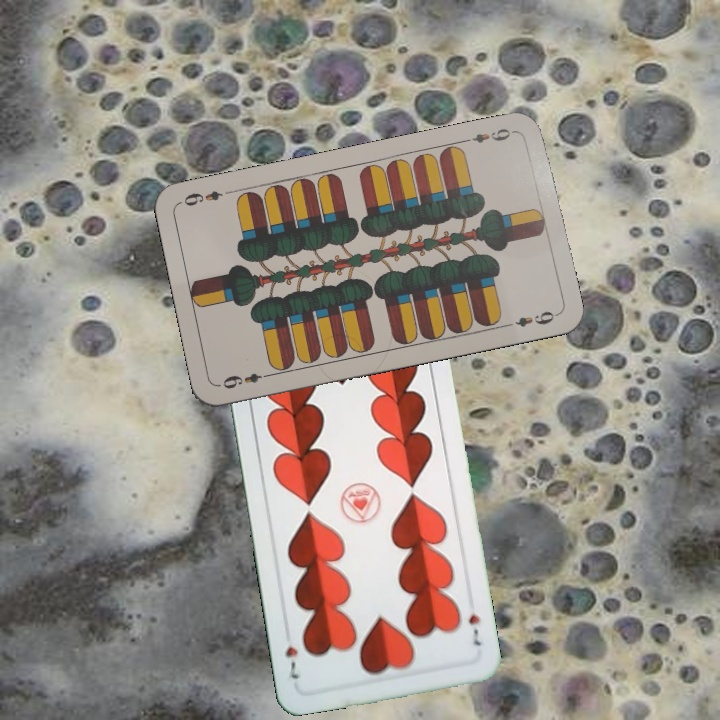E9: (218, 368, 275, 392), (461, 124, 520, 146)
H7: (464, 610, 484, 649)
